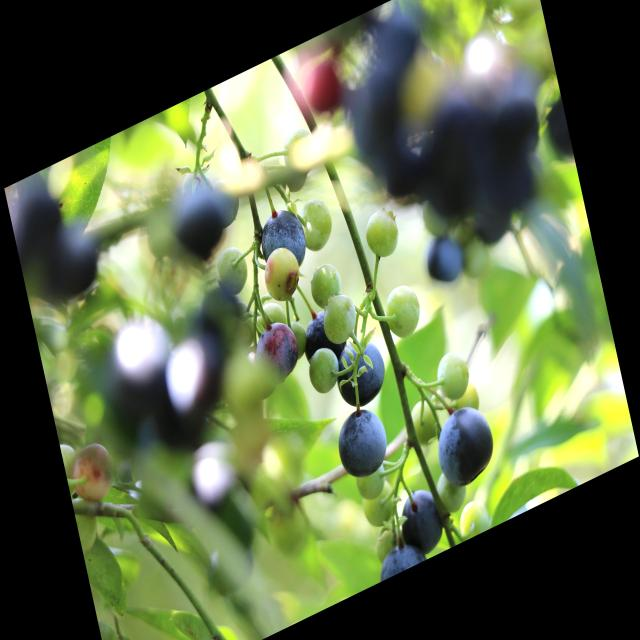blueberry: (432, 395, 502, 494), (332, 392, 393, 487), (331, 328, 390, 413), (256, 197, 312, 283), (394, 479, 448, 561), (251, 316, 303, 392), (420, 218, 470, 292), (300, 305, 347, 371), (372, 529, 427, 583)
blueberry-unripe: (318, 283, 366, 355), (379, 278, 424, 349), (208, 238, 253, 304), (363, 200, 406, 268), (260, 242, 304, 307), (297, 190, 339, 258), (435, 344, 474, 406), (304, 342, 344, 398), (307, 254, 346, 310), (360, 482, 402, 532), (281, 121, 318, 176), (406, 394, 442, 446), (352, 458, 390, 506), (454, 493, 491, 542), (436, 467, 471, 518), (372, 520, 400, 561)
